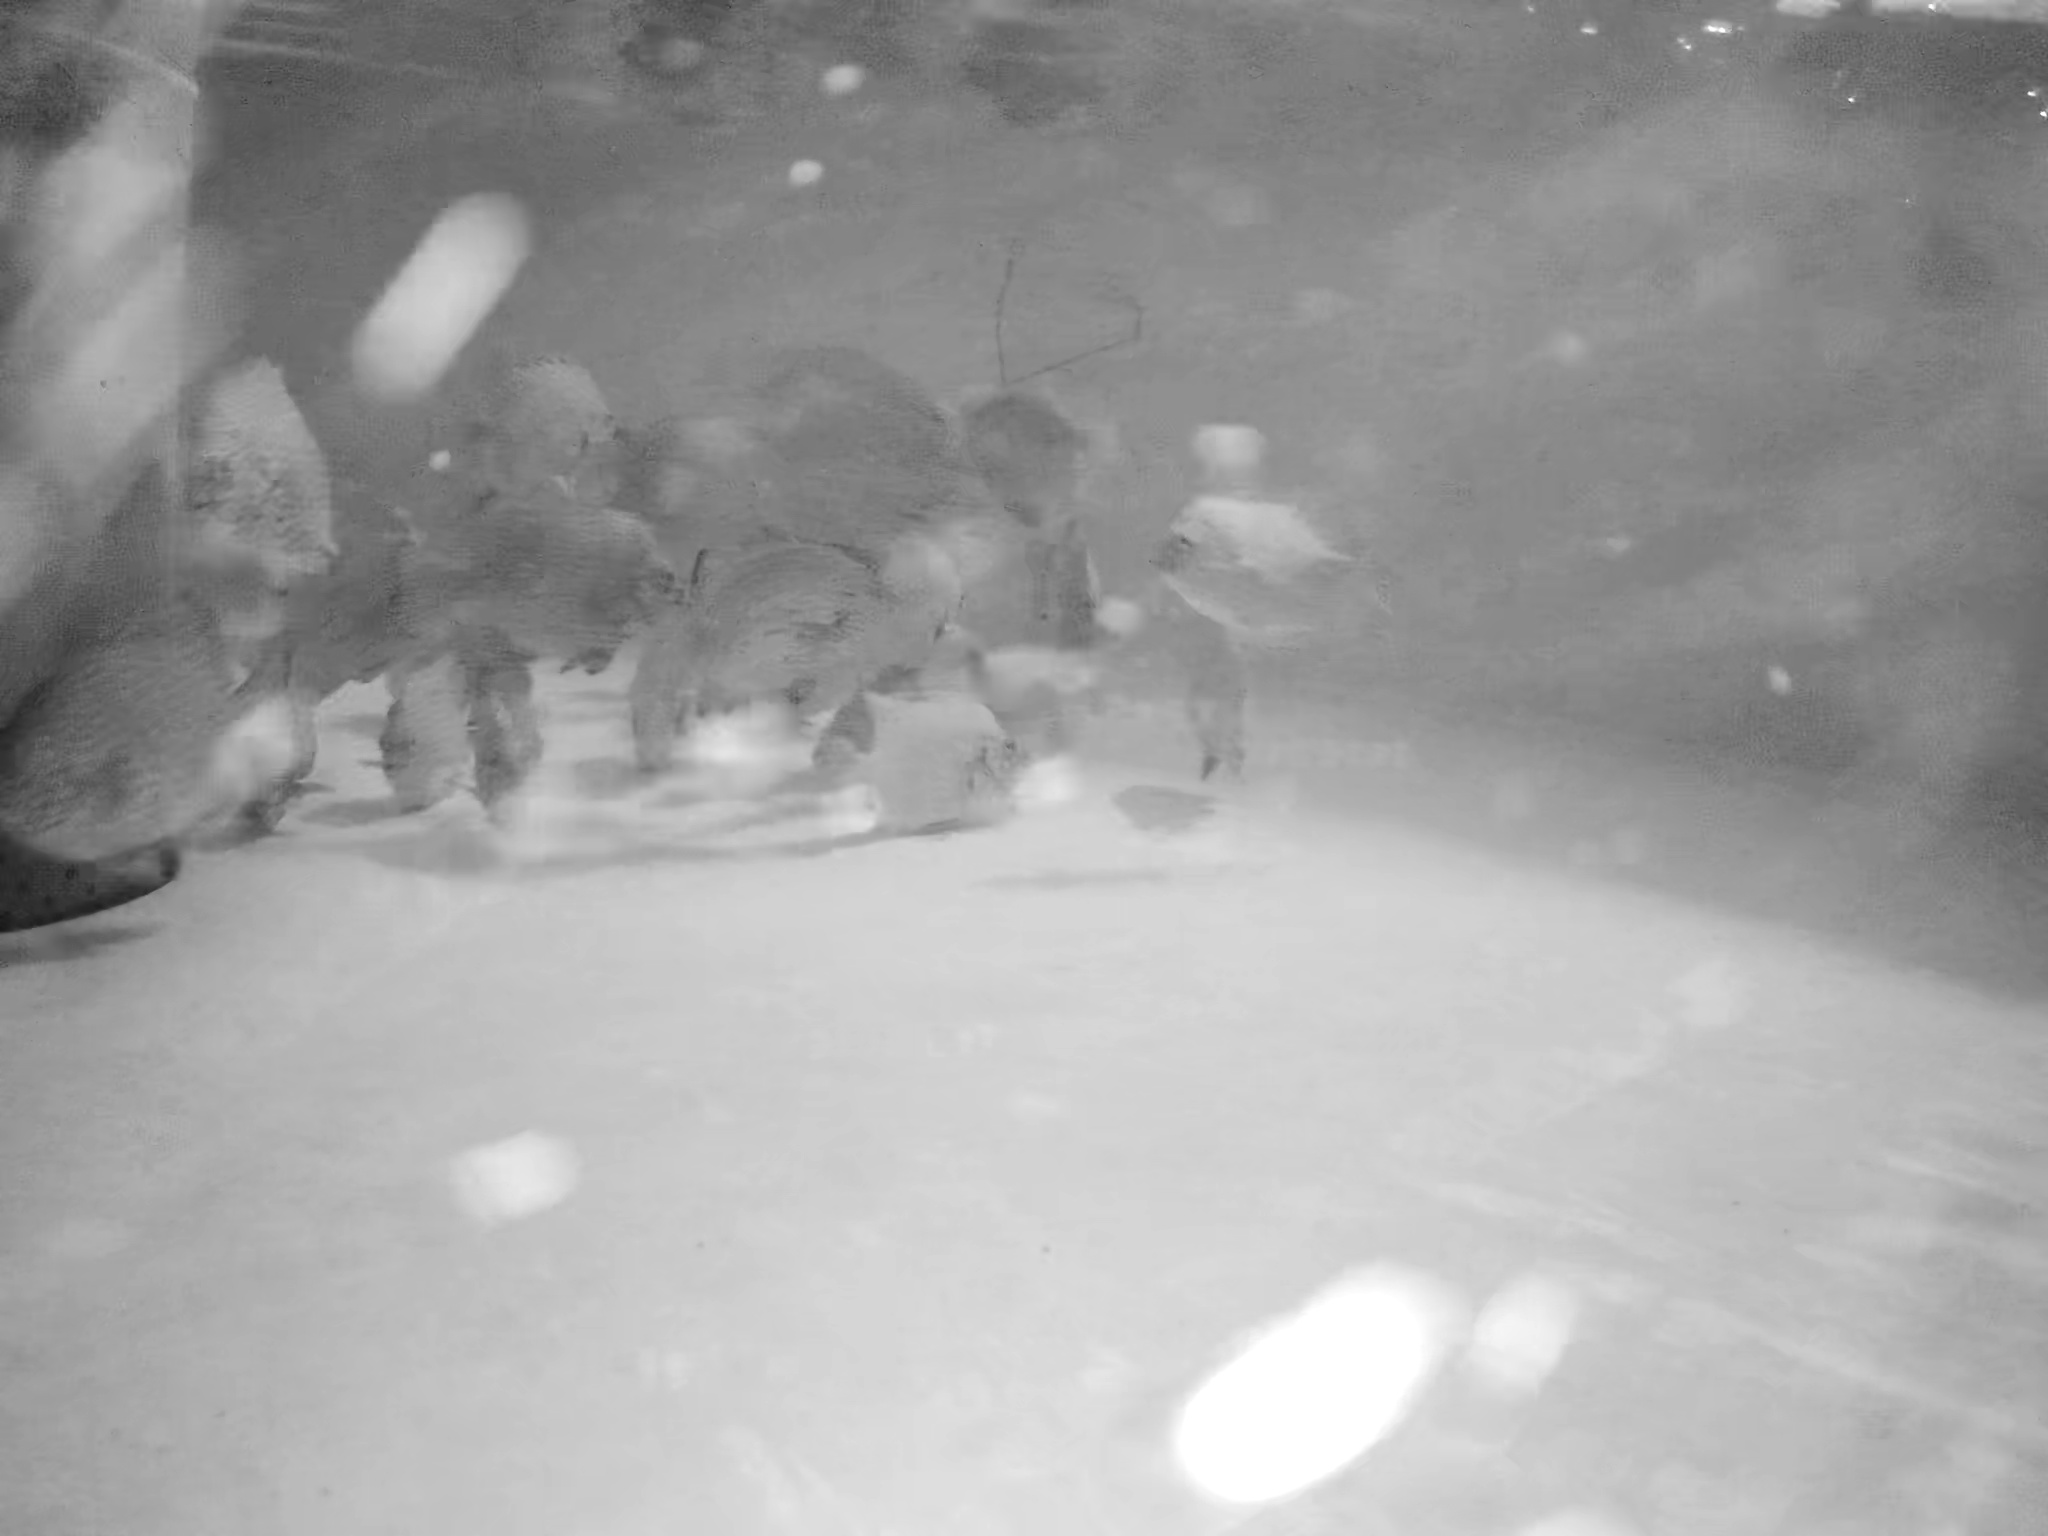fish: (18, 591, 329, 858), (384, 499, 693, 670), (194, 358, 376, 629), (1166, 487, 1417, 674), (748, 358, 956, 549), (916, 352, 1093, 552), (452, 344, 627, 500), (722, 550, 929, 681), (842, 695, 1037, 833), (1116, 615, 1256, 800), (943, 623, 1116, 749), (618, 624, 760, 757), (373, 632, 437, 871), (461, 692, 548, 836)
